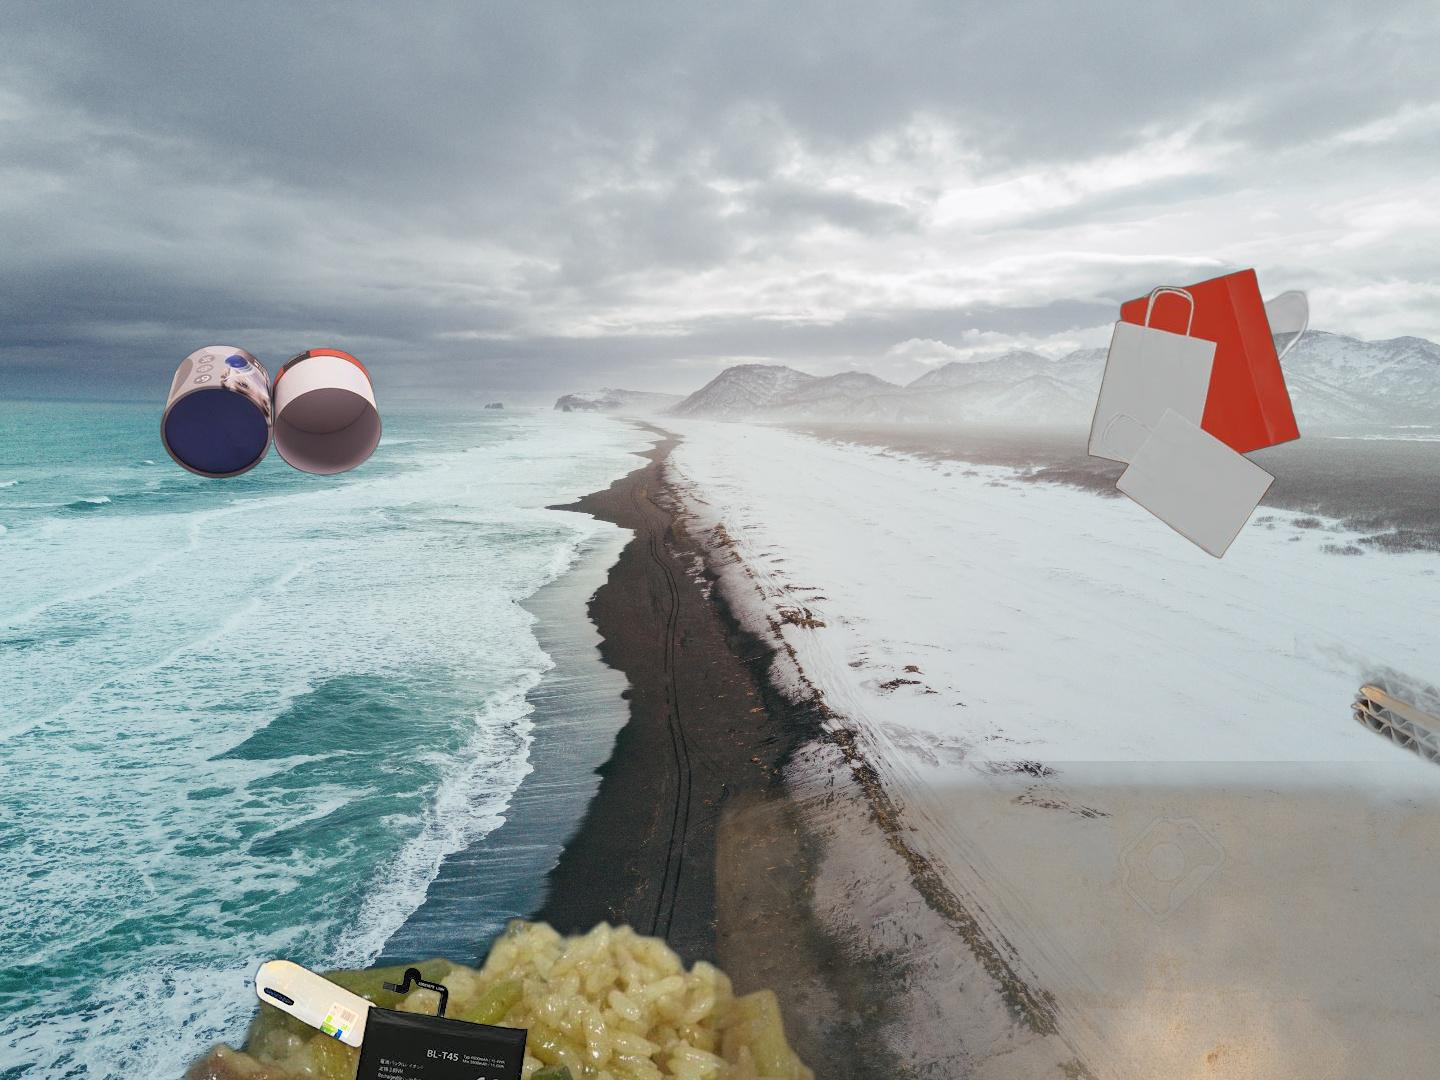battery: (336, 967, 530, 1080)
biological: (132, 908, 903, 1080)
paper-bag: (1086, 265, 1303, 560)
plastic-bottles: (251, 953, 383, 1054)
trash: (1130, 286, 1314, 408)
trashbox-cardboard: (698, 761, 1440, 1080), (1294, 633, 1440, 914), (158, 341, 386, 482)
